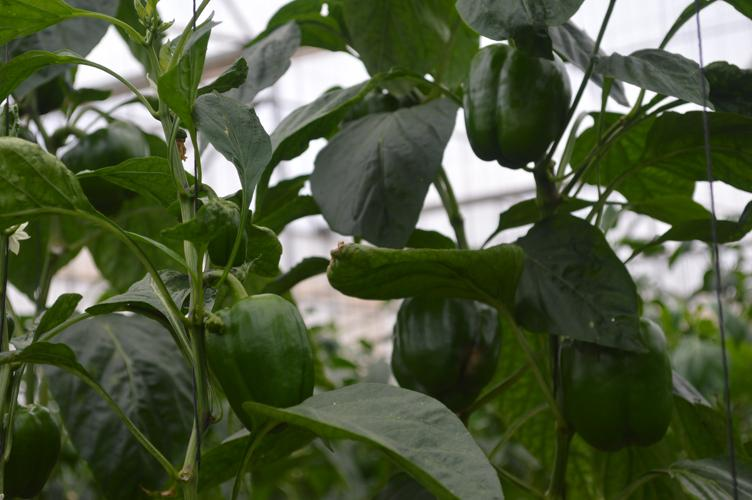BellPepper: (549, 315, 688, 465), (450, 26, 572, 178), (385, 280, 508, 418), (204, 289, 320, 432), (55, 127, 153, 204), (1, 405, 67, 500), (187, 192, 251, 270)
